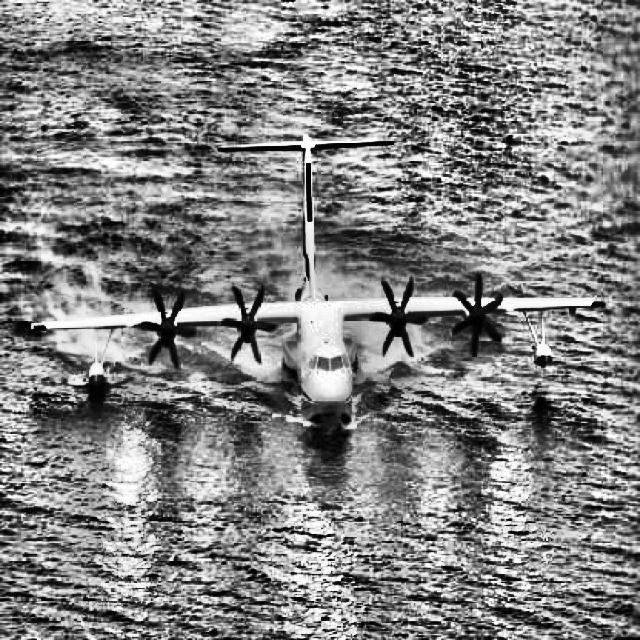AG600: (30, 133, 608, 430)
